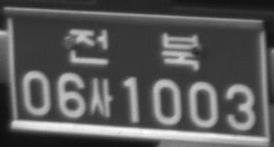0: (187, 79, 218, 129), (151, 77, 182, 126), (21, 68, 51, 117)
1: (119, 75, 146, 123)
3: (225, 82, 256, 132)
6: (57, 71, 86, 119)
사: (88, 77, 114, 118)
전북_D: (67, 27, 200, 71)
